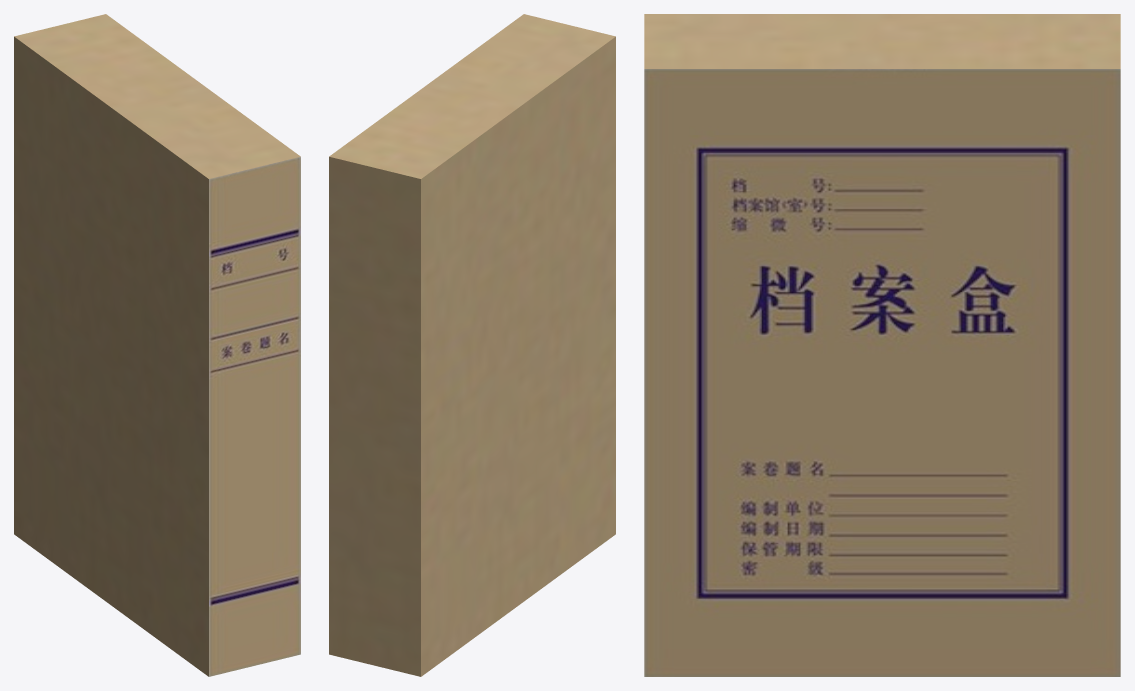
The model's file is 档案盒.gltf.
3 renders of one model, left to right at view 1: azimuth 30°, elevation 25°; view 2: azimuth 150°, elevation 25°; view 3: azimuth 270°, elevation 25°, orthographic. The views are drawn at different scales.
Visible parts, largest first — view 1: 档案盒; view 2: 档案盒; view 3: 档案盒.
Boxes of the visible parts, left/top/right/bottom form: 档案盒: left=14, top=14, right=300, bottom=676; 档案盒: left=329, top=14, right=615, bottom=676; 档案盒: left=644, top=14, right=1120, bottom=676.
Size of the model in its own units: 0.06 by 0.31 by 0.22.
3 materials, 3 textured.
